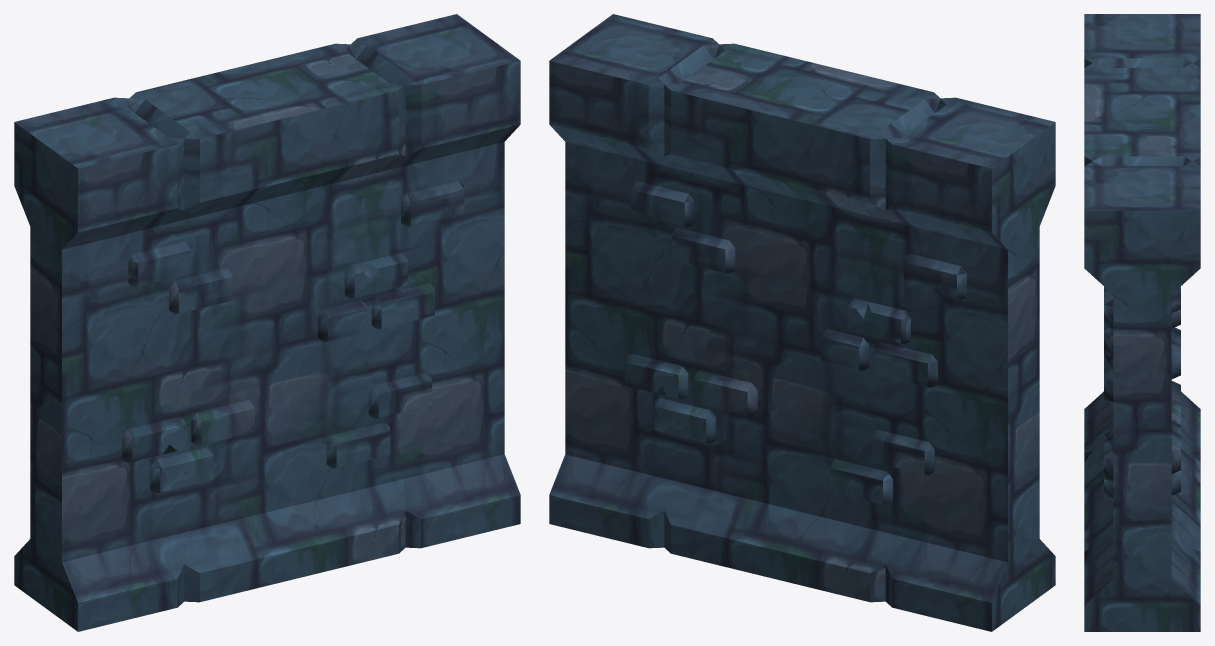
The model's file is wall.gltf.
3 renders of one model, left to right at view 1: azimuth 30°, elevation 25°; view 2: azimuth 150°, elevation 25°; view 3: azimuth 270°, elevation 25°, orthographic. The views are drawn at different scales.
Parts seen in each view (by area): view 1: wall; view 2: wall; view 3: wall.
Boxes of the visible parts, x1,y1,x2,y2 form: wall: (14,14,520,631); wall: (549,14,1055,631); wall: (1084,14,1200,631).
Bounding box in the file's own units: 4 × 4 × 1.
1 material, 1 textured.
